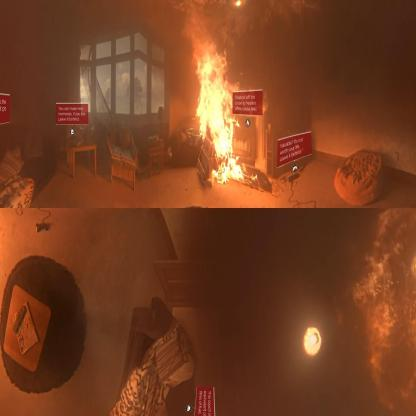fire: (192, 37, 262, 188)
